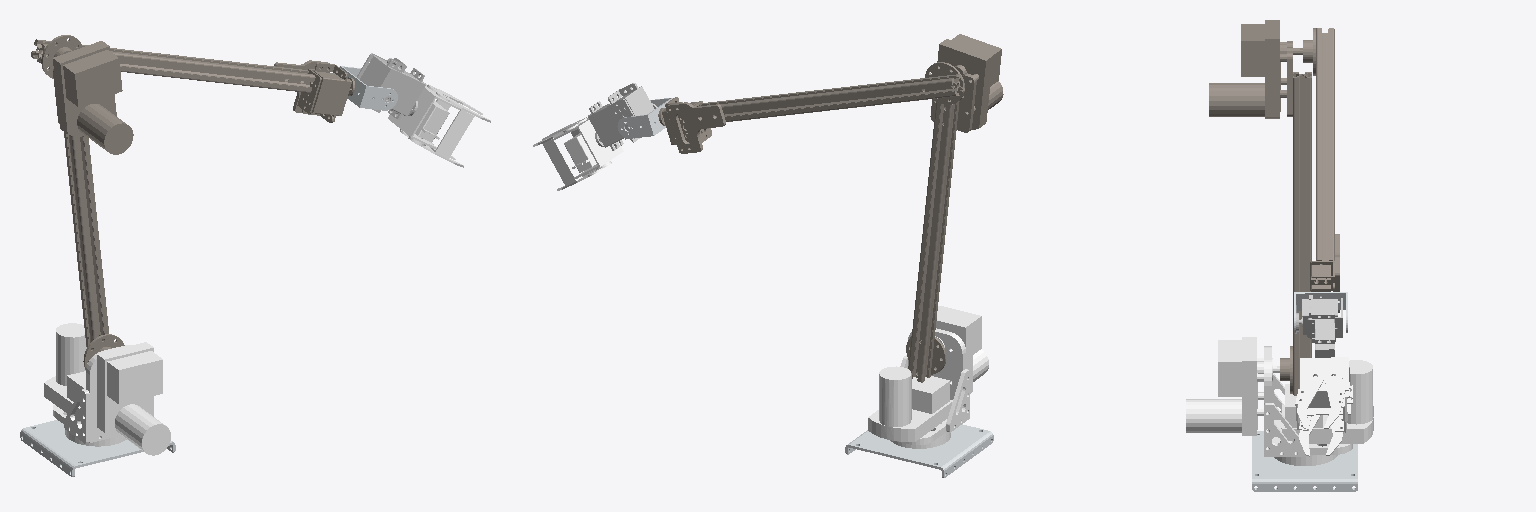
robot.urdf — explorer_arm:
<robot
  name="explorer_arm">
  <link
    name="base_link">
    <inertial>
      <origin
        xyz="5.30295138154639E-18 4.68666482685722E-18 -0.00537654262053586"
        rpy="0 0 0" />
      <mass
        value="0.123004220906763" />
      <inertia
        ixx="0.000126778477793128"
        ixy="1.16890546721093E-19"
        ixz="4.48838794212588E-21"
        iyy="0.000202905328983021"
        iyz="-1.00750827946994E-21"
        izz="0.000328057202392826" />
    </inertial>
    <visual>
      <origin
        xyz="0 0 0"
        rpy="0 0 0" />
      <geometry>
        <mesh
          filename="package://explorer_arm/meshes/base_link.STL" />
      </geometry>
      <material
        name="">
        <color
          rgba="0.898039215686275 0.917647058823529 0.929411764705882 1" />
      </material>
    </visual>
    <collision>
      <origin
        xyz="0 0 0"
        rpy="0 0 0" />
      <geometry>
        <mesh
          filename="package://explorer_arm/meshes/base_link.STL" />
      </geometry>
    </collision>
  </link>
  <link
    name="link1">
    <inertial>
      <origin
        xyz="-1.57296051184197E-15 -0.0164490622106135 0.0388817981392033"
        rpy="0 0 0" />
      <mass
        value="0.951158934947069" />
      <inertia
        ixx="0.00265081329327507"
        ixy="-1.0638733817514E-17"
        ixz="2.10470746733749E-17"
        iyy="0.00136964363562847"
        iyz="0.000498056019035245"
        izz="0.00197220269876933" />
    </inertial>
    <visual>
      <origin
        xyz="0 0 0"
        rpy="0 0 0" />
      <geometry>
        <mesh
          filename="package://explorer_arm/meshes/link1.STL" />
      </geometry>
      <material
        name="">
        <color
          rgba="1 1 1 1" />
      </material>
    </visual>
    <collision>
      <origin
        xyz="0 0 0"
        rpy="0 0 0" />
      <geometry>
        <mesh
          filename="package://explorer_arm/meshes/link1.STL" />
      </geometry>
    </collision>
  </link>
  <joint
    name="joint1"
    type="revolute">
    <origin
      xyz="0 0 0"
      rpy="0 0 0" />
    <parent
      link="base_link" />
    <child
      link="link1" />
    <axis
      xyz="0 0 1" />
    <limit
      lower="-1.39626"
      upper="1.39626"
      effort="0"
      velocity="0" />
  </joint>
  <link
    name="link2">
    <inertial>
      <origin
        xyz="0.218960913861498 -0.0141708664792835 0.0336877699607546"
        rpy="0 0 0" />
      <mass
        value="0.471157366596544" />
      <inertia
        ixx="0.000550706117649387"
        ixy="0.00079764310293283"
        ixz="-0.00128994903099265"
        iyy="0.00879208773534429"
        iyz="0.00012173568220917"
        izz="0.00880708498261866" />
    </inertial>
    <visual>
      <origin
        xyz="0 0 0"
        rpy="0 0 0" />
      <geometry>
        <mesh
          filename="package://explorer_arm/meshes/link2.STL" />
      </geometry>
      <material
        name="">
        <color
          rgba="0.650980392156863 0.619607843137255 0.588235294117647 1" />
      </material>
    </visual>
    <collision>
      <origin
        xyz="0 0 0"
        rpy="0 0 0" />
      <geometry>
        <mesh
          filename="package://explorer_arm/meshes/link2.STL" />
      </geometry>
    </collision>
  </link>
  <joint
    name="joint2"
    type="revolute">
    <origin
      xyz="0 -0.013 0.094735"
      rpy="2.7749E-16 -1.3269E-16 -1.9429E-16" />
    <parent
      link="link1" />
    <child
      link="link2" />
    <axis
      xyz="0 -1 0" />
    <limit
      lower="0.5233333333"
      upper="2.529444444"
      effort="0"
      velocity="0" />
  </joint>
  <link
    name="link3">
    <inertial>
      <origin
        xyz="-0.188265294609535 0.00719049764048552 0.0131455777449244"
        rpy="0 0 0" />
      <mass
        value="0.340508547249228" />
      <inertia
        ixx="0.000111611599254139"
        ixy="0.000207740791119363"
        ixz="0.000556461901337218"
        iyy="0.00740941885776415"
        iyz="-1.35938363387933E-05"
        izz="0.0073578696443495" />
    </inertial>
    <visual>
      <origin
        xyz="0 0 0"
        rpy="0 0 0" />
      <geometry>
        <mesh
          filename="package://explorer_arm/meshes/link3.STL" />
      </geometry>
      <material
        name="">
        <color
          rgba="0.650980392156863 0.619607843137255 0.588235294117647 1" />
      </material>
    </visual>
    <collision>
      <origin
        xyz="0 0 0"
        rpy="0 0 0" />
      <geometry>
        <mesh
          filename="package://explorer_arm/meshes/link3.STL" />
      </geometry>
    </collision>
  </link>
  <joint
    name="joint3"
    type="revolute">
    <origin
      xyz="0.34672 0.024 0.053185"
      rpy="1.2214E-15 0.1 -3.7062E-15" />
    <parent
      link="link2" />
    <child
      link="link3" />
    <axis
      xyz="0 -1 0" />
    <limit
      lower="0.3488888"
      upper="2.5294444"
      effort="0"
      velocity="0" />
  </joint>
  <link
    name="link4">
    <inertial>
      <origin
        xyz="0.0127610247457266 -1.08832644979406E-09 1.11490469634212E-09"
        rpy="0 0 0" />
      <mass
        value="0.0168856923737981" />
      <inertia
        ixx="1.00151971364091E-05"
        ixy="-1.10643678735093E-20"
        ixz="-6.35274710440725E-22"
        iyy="3.94077438699999E-06"
        iyz="-1.46829911554915E-07"
        izz="1.21420239431158E-05" />
    </inertial>
    <visual>
      <origin
        xyz="0 0 0"
        rpy="0 0 0" />
      <geometry>
        <mesh
          filename="package://explorer_arm/meshes/link4.STL" />
      </geometry>
      <material
        name="">
        <color
          rgba="0.898039215686275 0.917647058823529 0.929411764705882 1" />
      </material>
    </visual>
    <collision>
      <origin
        xyz="0 0 0"
        rpy="0 0 0" />
      <geometry>
        <mesh
          filename="package://explorer_arm/meshes/link4.STL" />
      </geometry>
    </collision>
  </link>
  <joint
    name="joint4"
    type="revolute">
    <origin
      xyz="-0.37504 0.006 0.019228"
      rpy="-3.1416 -0.052784 -3.1416" />
    <parent
      link="link3" />
    <child
      link="link4" />
    <axis
      xyz="1 0 0" />
    <limit
      lower="-1.57"
      upper="1.57"
      effort="0"
      velocity="0" />
  </joint>
  <link
    name="link5">
    <inertial>
      <origin
        xyz="-0.0277631808703815 -0.00993024655588244 0.0158727705342218"
        rpy="0 0 0" />
      <mass
        value="0.176496925110268" />
      <inertia
        ixx="8.71848264444776E-05"
        ixy="-5.24503988945605E-07"
        ixz="5.76084946082367E-06"
        iyy="7.75931086752916E-05"
        iyz="-9.19170266270102E-07"
        izz="4.46773841632012E-05" />
    </inertial>
    <visual>
      <origin
        xyz="0 0 0"
        rpy="0 0 0" />
      <geometry>
        <mesh
          filename="package://explorer_arm/meshes/link5.STL" />
      </geometry>
      <material
        name="">
        <color
          rgba="0.847058823529412 0.847058823529412 0.847058823529412 1" />
      </material>
    </visual>
    <collision>
      <origin
        xyz="0 0 0"
        rpy="0 0 0" />
      <geometry>
        <mesh
          filename="package://explorer_arm/meshes/link5.STL" />
      </geometry>
    </collision>
  </link>
  <joint
    name="joint5"
    type="revolute">
    <origin
      xyz="0.032 -0.025996 -0.00046526"
      rpy="-1.8528 0.017896 -1.5708" />
    <parent
      link="link4" />
    <child
      link="link5" />
    <axis
      xyz="1 0 0" />
    <limit
      lower="-0.69777777"
      upper="1.39"
      effort="0"
      velocity="0" />
  </joint>
  <link
    name="link6">
    <inertial>
      <origin
        xyz="0.0245880351097211 -0.00326907351610177 -5.42849800771184E-05"
        rpy="0 0 0" />
      <mass
        value="0.106174750561717" />
      <inertia
        ixx="4.29253431142189E-05"
        ixy="-9.01215408103069E-08"
        ixz="-1.08939932358241E-06"
        iyy="3.46445626823301E-05"
        iyz="3.64117468216087E-07"
        izz="3.9799908549543E-05" />
    </inertial>
    <visual>
      <origin
        xyz="0 0 0"
        rpy="0 0 0" />
      <geometry>
        <mesh
          filename="package://explorer_arm/meshes/link6.STL" />
      </geometry>
      <material
        name="">
        <color
          rgba="1 1 1 1" />
      </material>
    </visual>
    <collision>
      <origin
        xyz="0 0 0"
        rpy="0 0 0" />
      <geometry>
        <mesh
          filename="package://explorer_arm/meshes/link6.STL" />
      </geometry>
    </collision>
  </link>
  <joint
    name="joint6"
    type="revolute">
    <origin
      xyz="-0.0298 0.00025 0.0578"
      rpy="3.1416 -1.5708 0" />
    <parent
      link="link5" />
    <child
      link="link6" />
    <axis
      xyz="1 0 0" />
    <limit
      lower="-1.57"
      upper="1.57"
      effort="0"
      velocity="0" />
  </joint>
</robot>

--- Facts derived from the render (not from the file) ---
3 views of the same robot in one strip: view 1: azimuth 30°, elevation 25°; view 2: azimuth 150°, elevation 25°; view 3: azimuth 270°, elevation 25° (orthographic).
Robot: explorer_arm — 7 links, 6 joints (6 revolute); root link base_link; default pose: joints at zero except 2 at the middle of their limits (joint2 = 1.53, joint3 = 1.44).
Links seen in each view (by area): view 1: link2, link1, link3, link6, base_link, link5, link4; view 2: link2, link1, link3, base_link, link6, link5, link4; view 3: link1, link2, link3, link6, base_link, link5, link4.
Link boxes in pixels (bbox=[...]): link2: bbox=[53, 41, 133, 369]; link1: bbox=[44, 323, 170, 455]; link3: bbox=[31, 35, 354, 122]; link6: bbox=[388, 84, 490, 167]; base_link: bbox=[20, 420, 175, 476]; link5: bbox=[357, 53, 425, 119]; link4: bbox=[340, 66, 397, 110]; link2: bbox=[906, 34, 1003, 382]; link1: bbox=[868, 306, 988, 448]; link3: bbox=[658, 62, 964, 153]; base_link: bbox=[845, 424, 993, 477]; link6: bbox=[533, 117, 623, 190]; link5: bbox=[588, 83, 657, 150]; link4: bbox=[617, 98, 672, 138]; link1: bbox=[1186, 337, 1373, 465]; link2: bbox=[1209, 20, 1311, 395]; link3: bbox=[1303, 28, 1339, 312]; link6: bbox=[1295, 357, 1352, 456]; base_link: bbox=[1252, 431, 1357, 491]; link5: bbox=[1296, 295, 1342, 357]; link4: bbox=[1294, 292, 1347, 333].
Bounding box of the posed robot: 0.5525 × 0.1953 × 0.4948 m (x, y, z).
Meshes: 7 distinct files referenced, 7 mesh visuals loaded (7 binary STL).